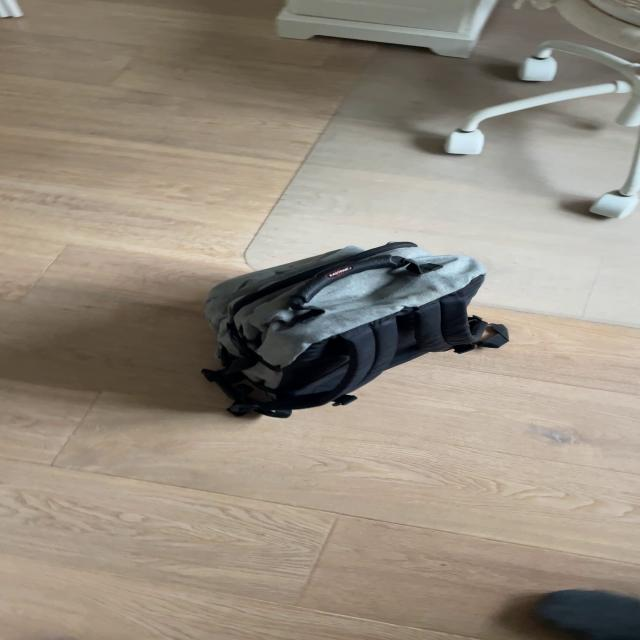backpack: (180, 232, 504, 425)
